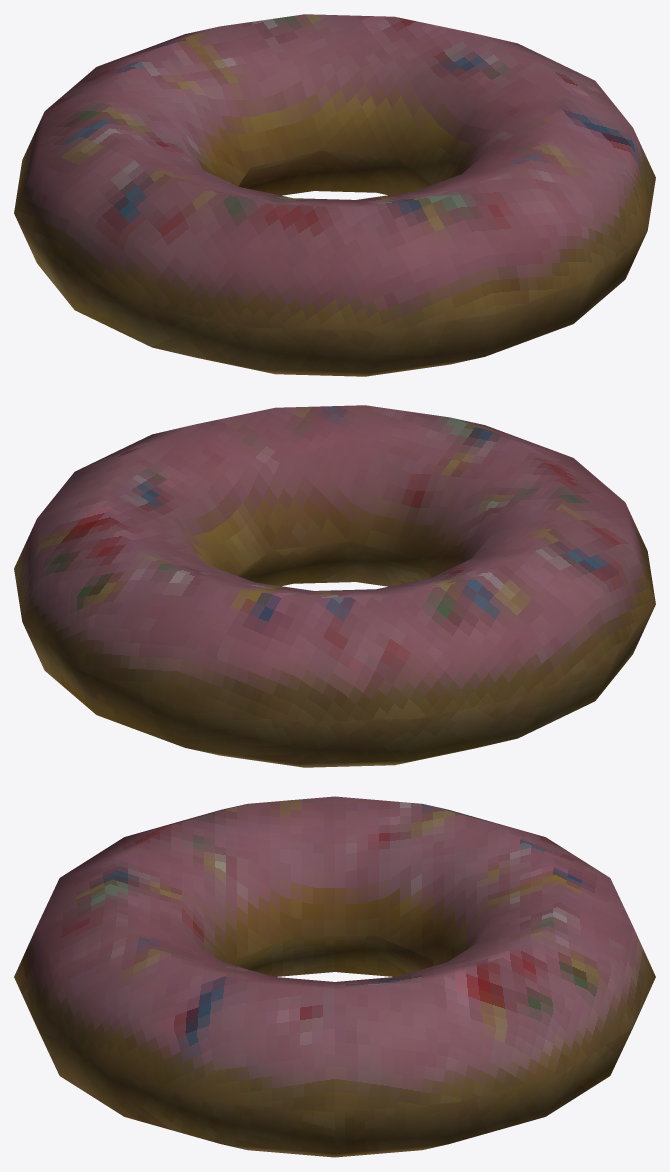
Rendered from doughnut.glb.
3 views of the same model, one above another, from view 1: azimuth 30°, elevation 25°; view 2: azimuth 150°, elevation 25°; view 3: azimuth 270°, elevation 25° (orthographic).
Parts seen in each view (by area): view 1: doughnut_tr_1; view 2: doughnut_tr_1; view 3: doughnut_tr_1.
Boxes of the visible parts, x1=… form: doughnut_tr_1: x1=14, y1=14, x2=655, y2=376; doughnut_tr_1: x1=14, y1=405, x2=655, y2=767; doughnut_tr_1: x1=14, y1=796, x2=655, y2=1157.
Bounding box in the file's own units: 0.1554 × 0.0447 × 0.1554.
Materials: 1 (1 with a texture image).
